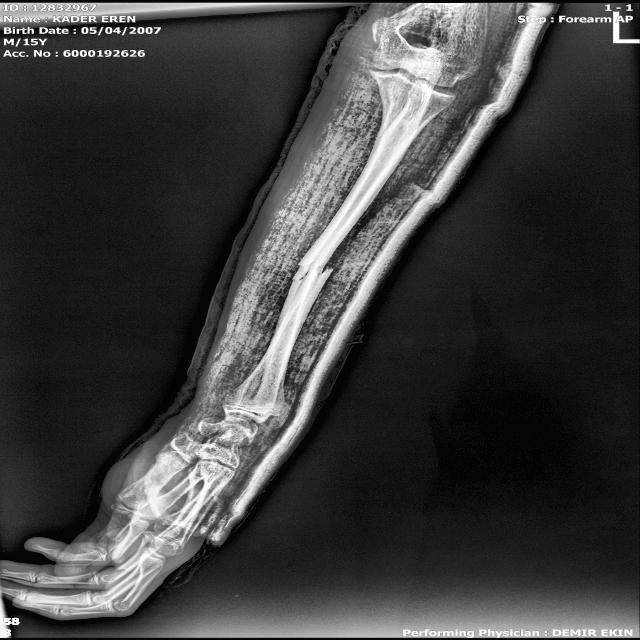Fracture: (288, 253, 338, 294)
